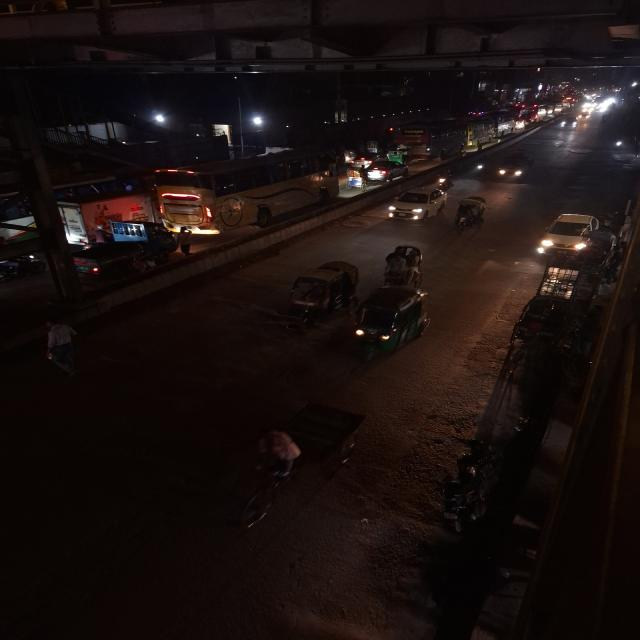bus: (147, 148, 340, 234), (396, 119, 469, 161), (464, 118, 497, 148)
car: (535, 211, 604, 259), (383, 184, 449, 224), (494, 149, 534, 185), (363, 160, 412, 182)
cng: (351, 284, 431, 362), (384, 148, 413, 162)
motorcycle: (434, 168, 456, 190), (471, 159, 490, 178)
pedestrian: (34, 318, 89, 377)
pickup_van: (69, 217, 177, 276), (494, 149, 534, 185)
rickshaw: (234, 398, 366, 534), (280, 258, 362, 333), (534, 260, 586, 302), (380, 242, 428, 285), (450, 194, 491, 238)
